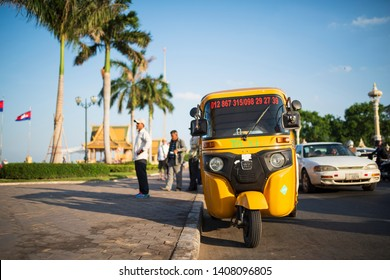car: (293, 141, 381, 194)
threewheel: (189, 88, 301, 247)
